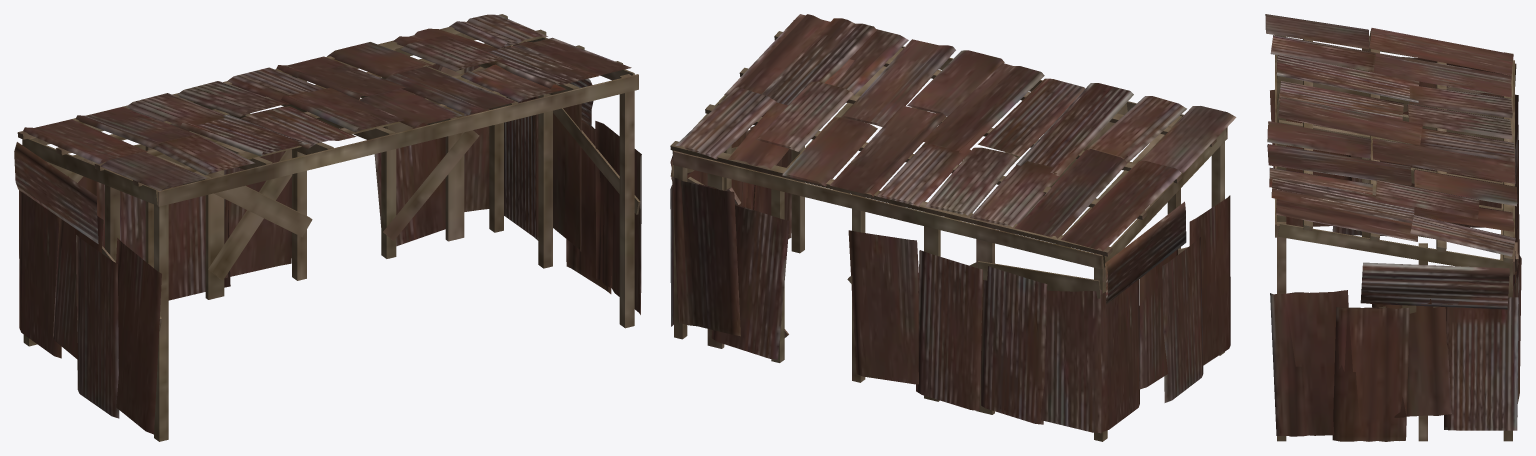
Rendered from swamp-shack.zfix-v1.lod1.glb.
3 renders of one model, left to right at view 1: azimuth 30°, elevation 25°; view 2: azimuth 150°, elevation 25°; view 3: azimuth 270°, elevation 25°, orthographic. The views are drawn at different scales.
Parts seen in each view (by area): view 1: Object_16; view 2: Object_16; view 3: Object_16.
Boxes of the visible parts, x1,y1,x2,y2 form: Object_16: (14, 14, 641, 441); Object_16: (670, 14, 1236, 441); Object_16: (1265, 14, 1521, 441).
Bounding box in the file's own units: 7.98 × 4.05 × 4.09.
1 material, 1 textured.
